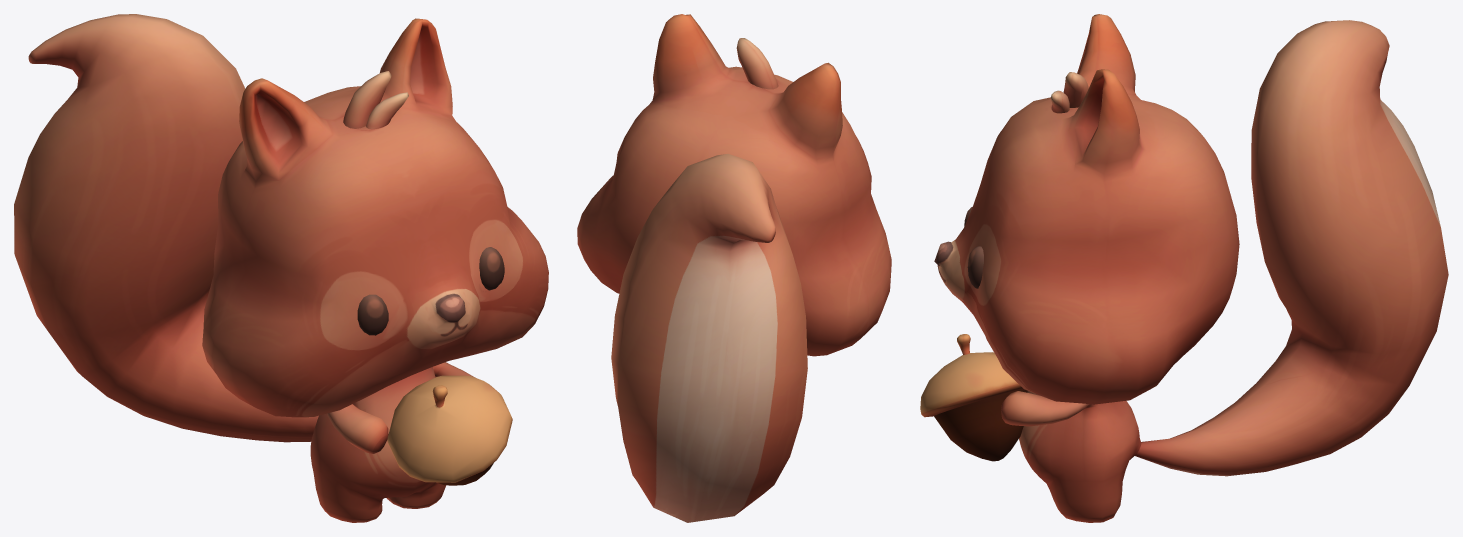
3 renders of one model, left to right at view 1: azimuth 30°, elevation 25°; view 2: azimuth 150°, elevation 25°; view 3: azimuth 270°, elevation 25°, orthographic. The views are drawn at different scales.
Parts seen in each view (by area): view 1: Mesh_squirrel_pose_1, Mesh_squirrel_pose_acorn_0; view 2: Mesh_squirrel_pose_1; view 3: Mesh_squirrel_pose_1, Mesh_squirrel_pose_acorn_0.
Boxes of the visible parts, <box> form: Mesh_squirrel_pose_1: <box>14,14,548,522</box>; Mesh_squirrel_pose_acorn_0: <box>387,375,512,485</box>; Mesh_squirrel_pose_1: <box>577,14,891,522</box>; Mesh_squirrel_pose_1: <box>934,14,1448,522</box>; Mesh_squirrel_pose_acorn_0: <box>920,334,1027,461</box>.
Size of the model in its own units: 0.6381 by 0.7708 by 0.8219.
1 material, 1 textured.
